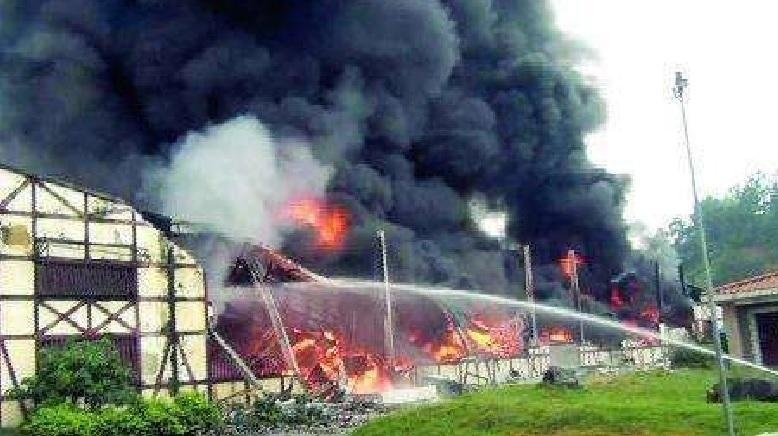fire: (288, 196, 350, 246), (540, 323, 574, 343)
